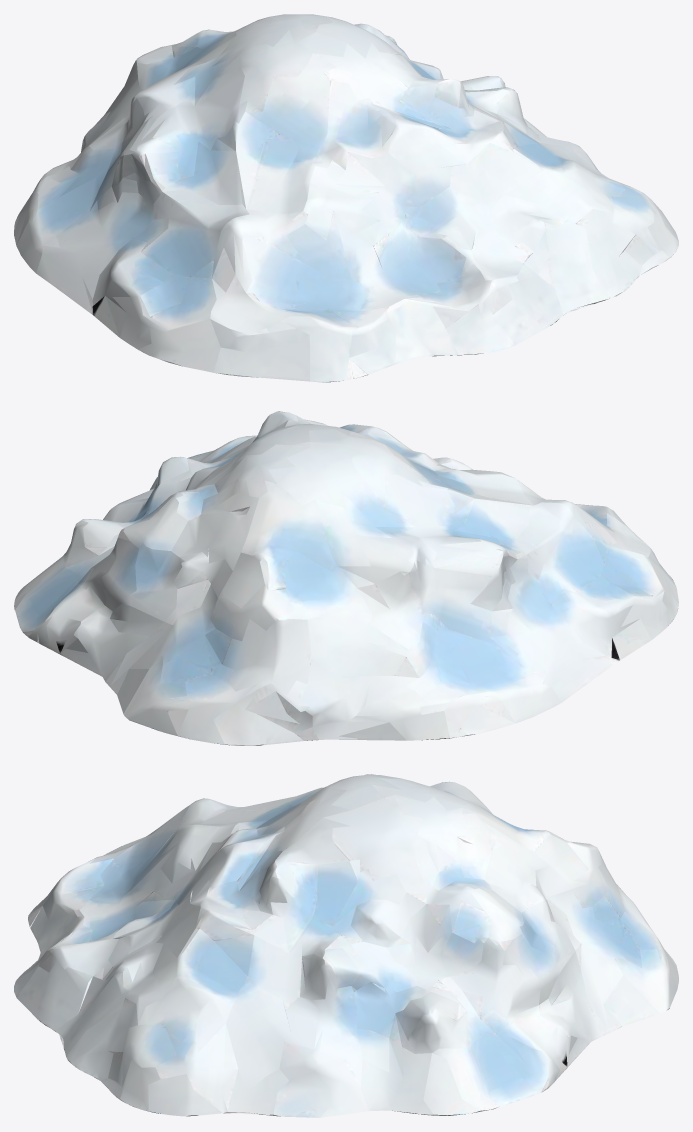
The model's file is snow_heap.glb.
The picture shows the model from 3 angles, top to bottom: view 1: azimuth 30°, elevation 25°; view 2: azimuth 150°, elevation 25°; view 3: azimuth 270°, elevation 25°; orthographic projection. The views are drawn at different scales.
Size of the model in its own units: 1.78 by 0.6017 by 1.9.
Materials: 1 (1 with a texture image).
